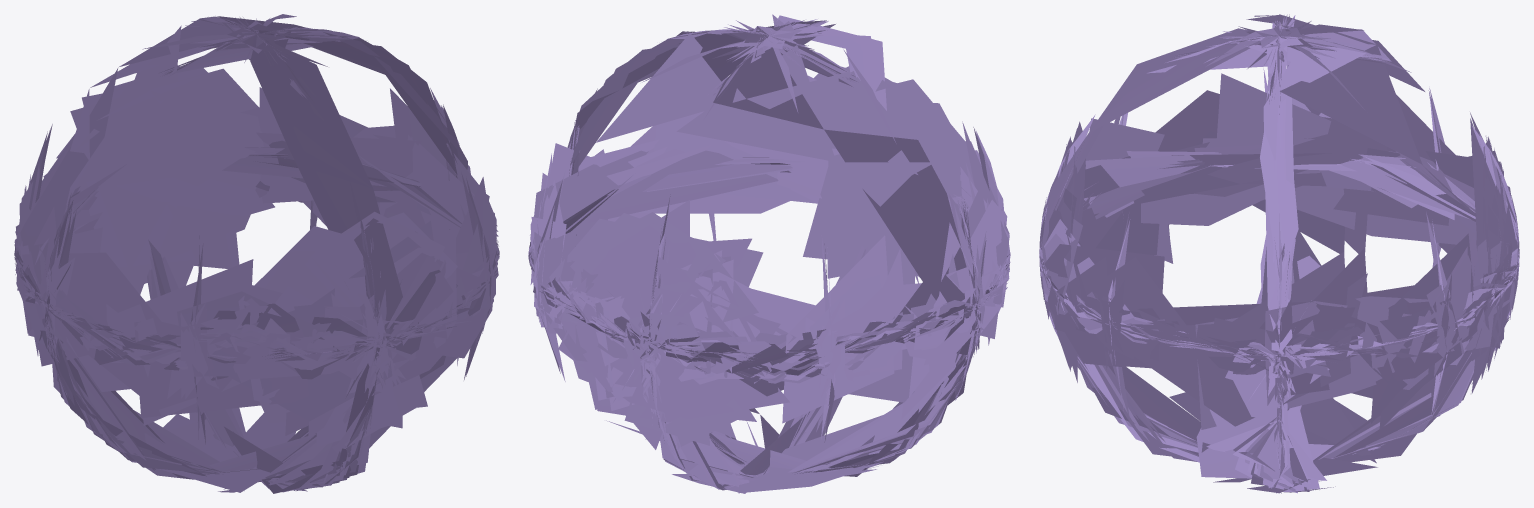
The model's file is sys-dsf-instrument.glb.
3 views of the same model, side by side, from view 1: azimuth 30°, elevation 25°; view 2: azimuth 150°, elevation 25°; view 3: azimuth 270°, elevation 25° (orthographic).
Visible parts, largest first — view 1: TS-dsf-instrument-1693, TS-dsf-instrument-1691, TS-dsf-instrument-1701; view 2: TS-dsf-instrument-1693, TS-dsf-instrument-1691, TS-dsf-instrument-1701; view 3: TS-dsf-instrument-1693, TS-dsf-instrument-1701, TS-dsf-instrument-1691.
Boxes of the visible parts, bbox=[...] form: TS-dsf-instrument-1693: bbox=[14, 14, 499, 492]; TS-dsf-instrument-1691: bbox=[14, 17, 498, 492]; TS-dsf-instrument-1701: bbox=[14, 16, 499, 493]; TS-dsf-instrument-1693: bbox=[529, 20, 1009, 486]; TS-dsf-instrument-1691: bbox=[529, 14, 1009, 493]; TS-dsf-instrument-1701: bbox=[528, 15, 1010, 493]; TS-dsf-instrument-1693: bbox=[1039, 14, 1519, 482]; TS-dsf-instrument-1701: bbox=[1039, 14, 1519, 493]; TS-dsf-instrument-1691: bbox=[1039, 14, 1519, 493].
Size of the model in its own units: 2 by 2 by 2.
